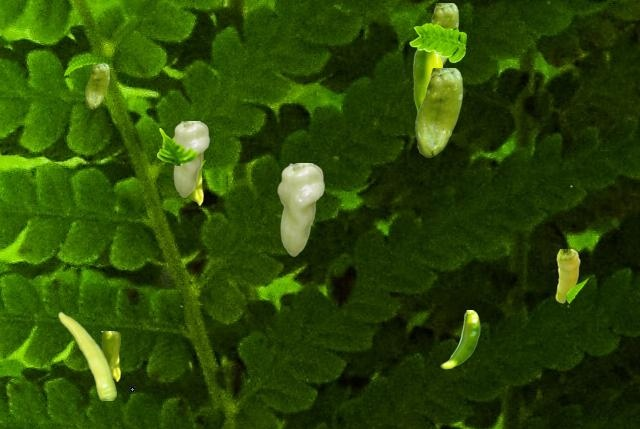green_chili: (58, 311, 115, 399), (277, 163, 323, 255), (415, 68, 461, 156), (172, 121, 208, 196), (440, 310, 479, 368), (413, 49, 441, 111), (430, 3, 457, 66), (555, 249, 579, 302), (85, 64, 108, 108), (101, 331, 119, 380), (189, 167, 202, 204)
